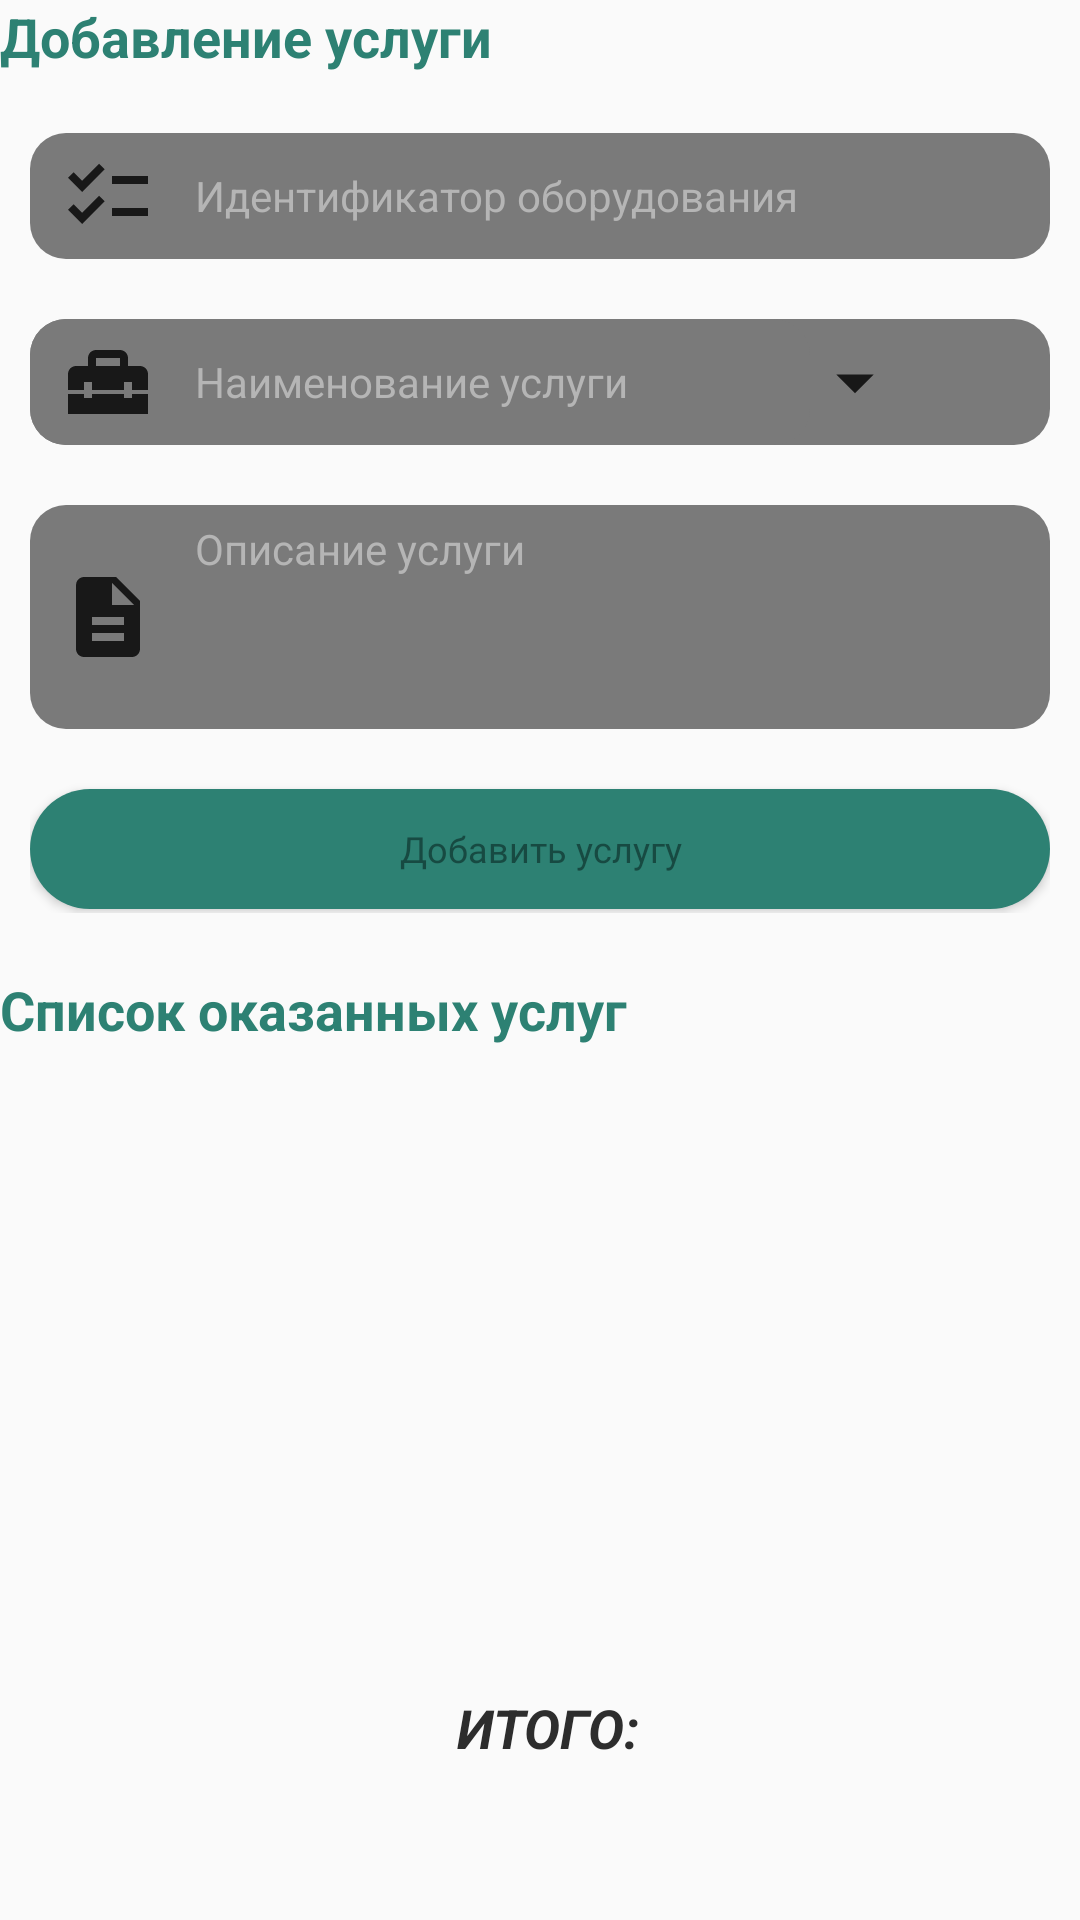

Screen size 1080x1920. Icon name, then its center in pixels as (x=x, y=y):
down list: (x=855, y=383)
